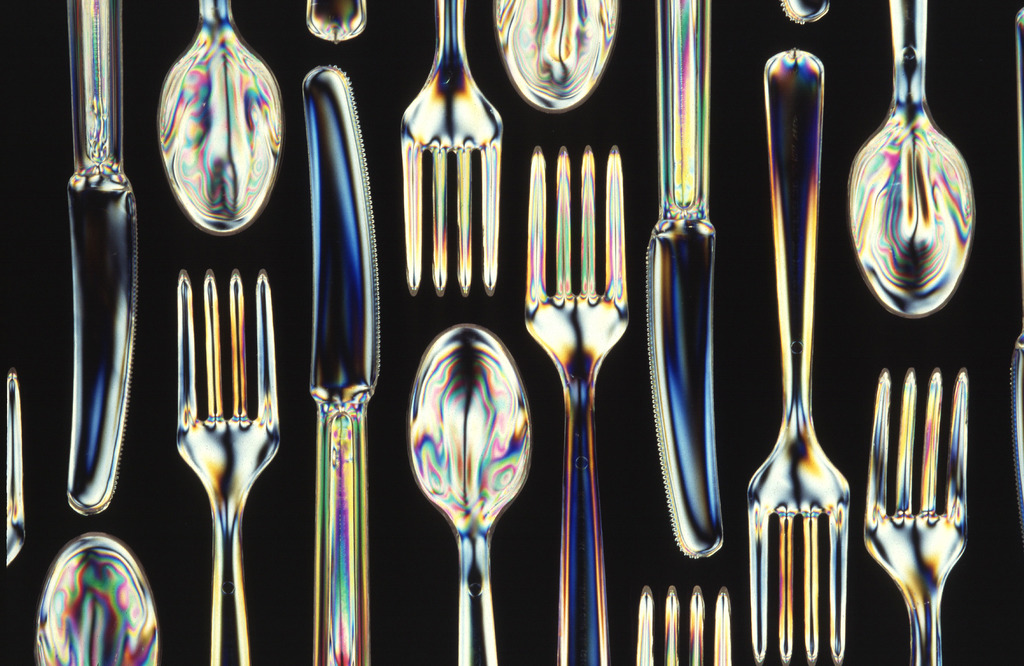fork: (746, 47, 848, 665)
